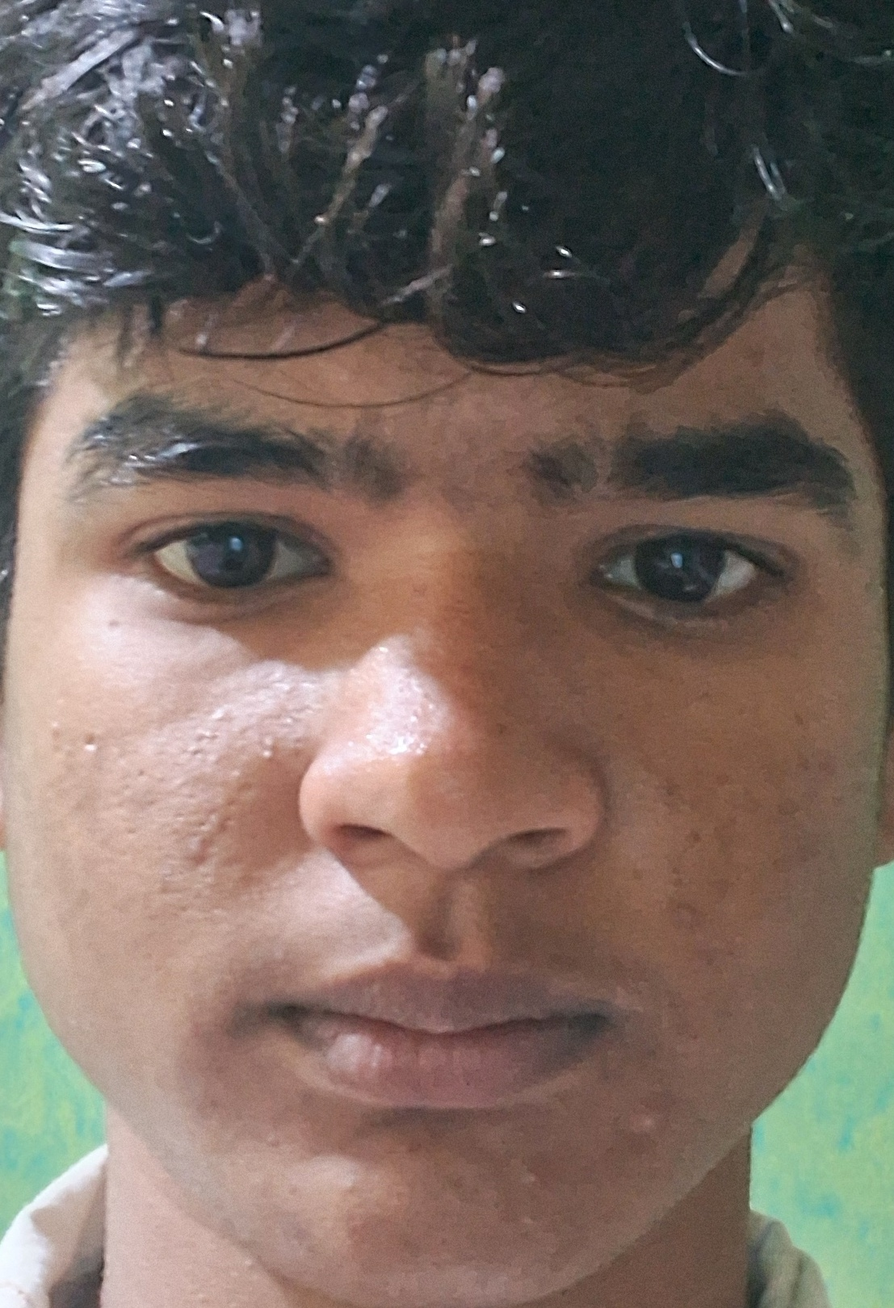closed_comedone: (224, 704, 297, 794)
papule: (161, 801, 249, 872)
pustule: (606, 1094, 694, 1185), (500, 1191, 565, 1252), (504, 1144, 569, 1200), (640, 891, 722, 935)
